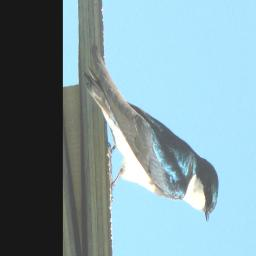Swallow: (80, 21, 222, 241)
